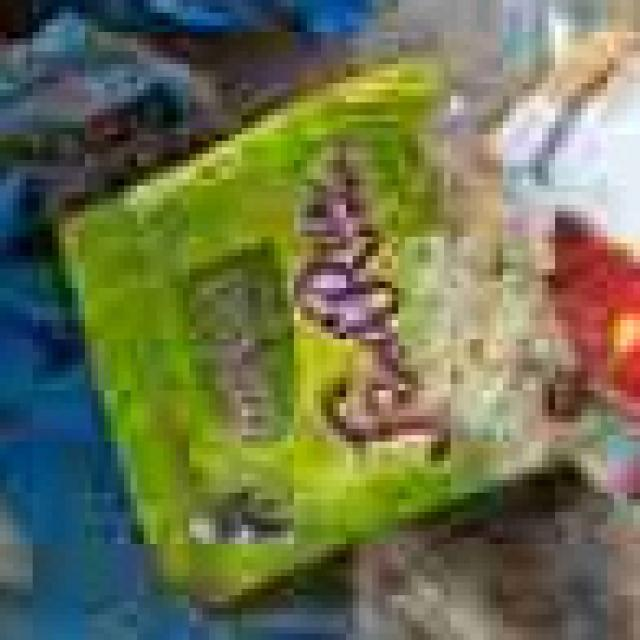giay_goi: (65, 58, 594, 605)
